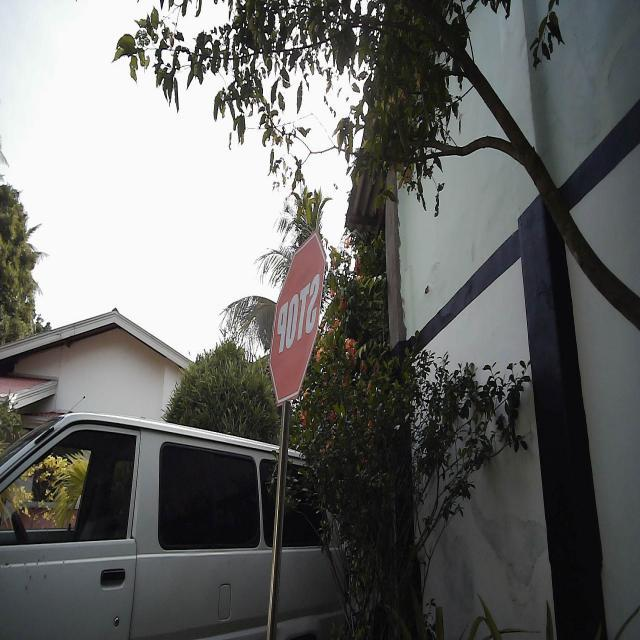stop: (267, 225, 328, 410)
